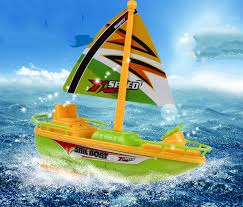tau_dansu: (32, 26, 200, 179)
